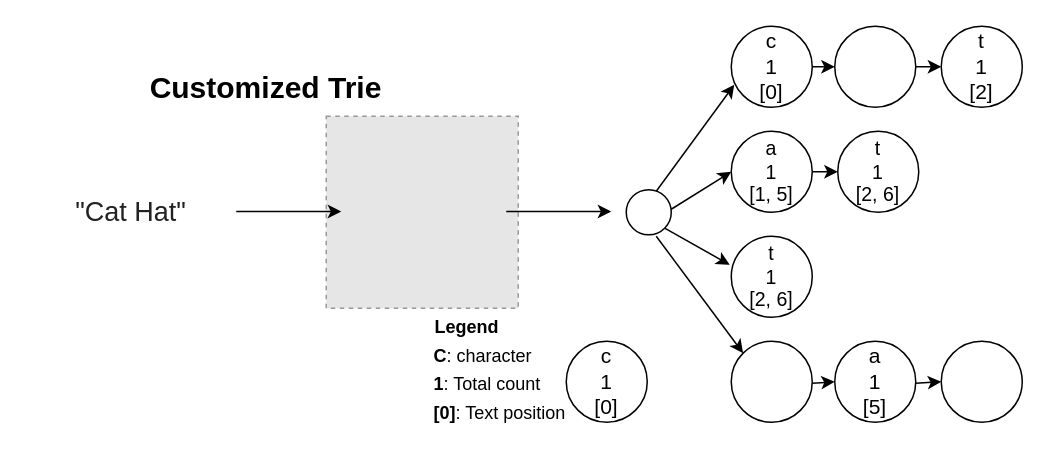
Image size: 1049x455. Some labels were removed from this diagram. Grey dashed boxes stand in for pictures. Each missing label, with the box of its shape:
a 1 [1]: (833, 25, 916, 107)
h 1 [4]: (730, 340, 812, 422)
t 1 [6]: (940, 340, 1022, 422)
